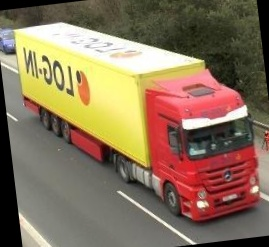car: (0, 27, 16, 55)
